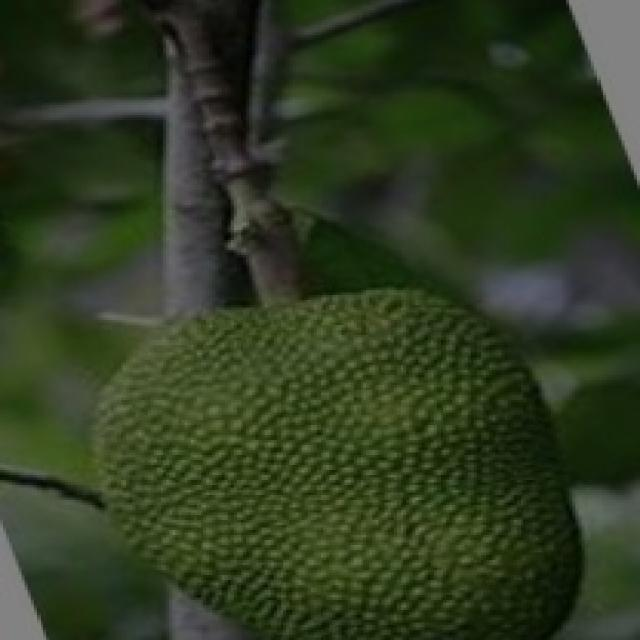Fruit: (34, 262, 437, 640), (253, 238, 622, 638)
